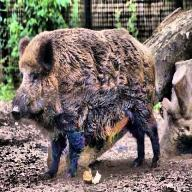boar: (2, 26, 168, 170)
